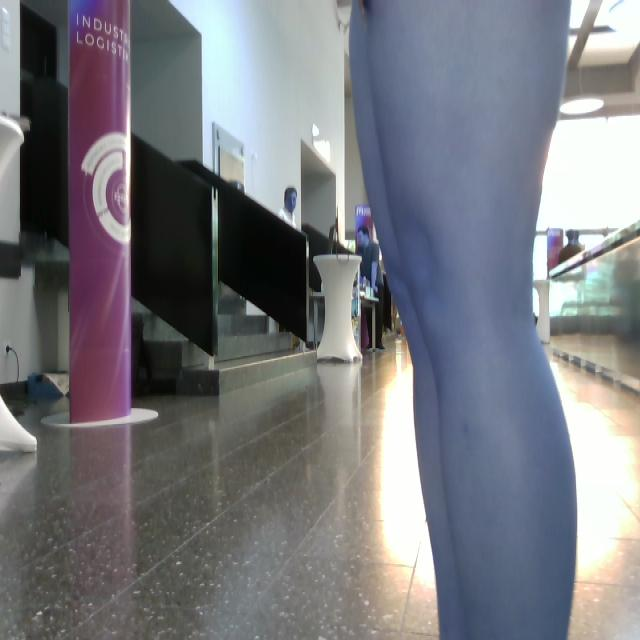door: (213, 124, 291, 337)
light bulb: (559, 66, 605, 116), (1, 396, 37, 453), (560, 98, 604, 114)
table: (312, 252, 366, 369)
tiled floor: (1, 341, 436, 640), (554, 364, 640, 640)
